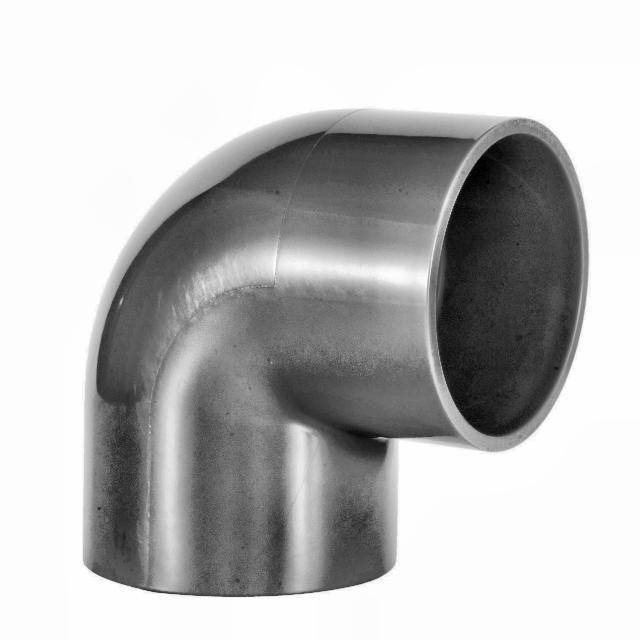ELBOW90: (78, 107, 592, 601)
